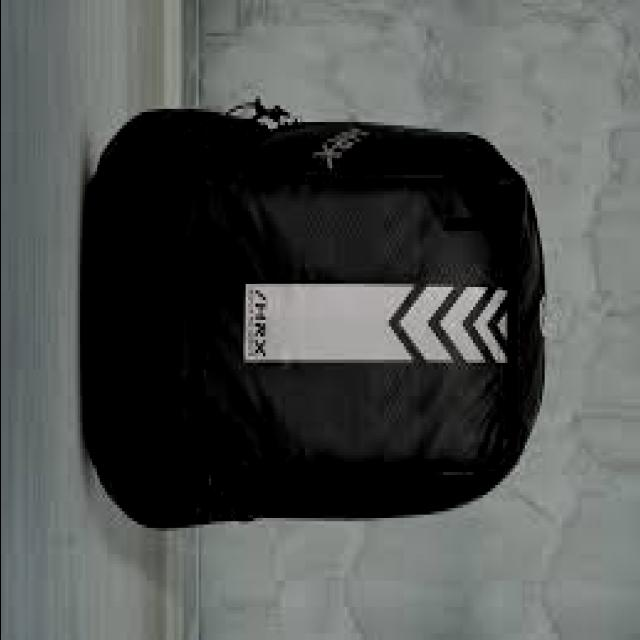backpack: (83, 100, 550, 529)
